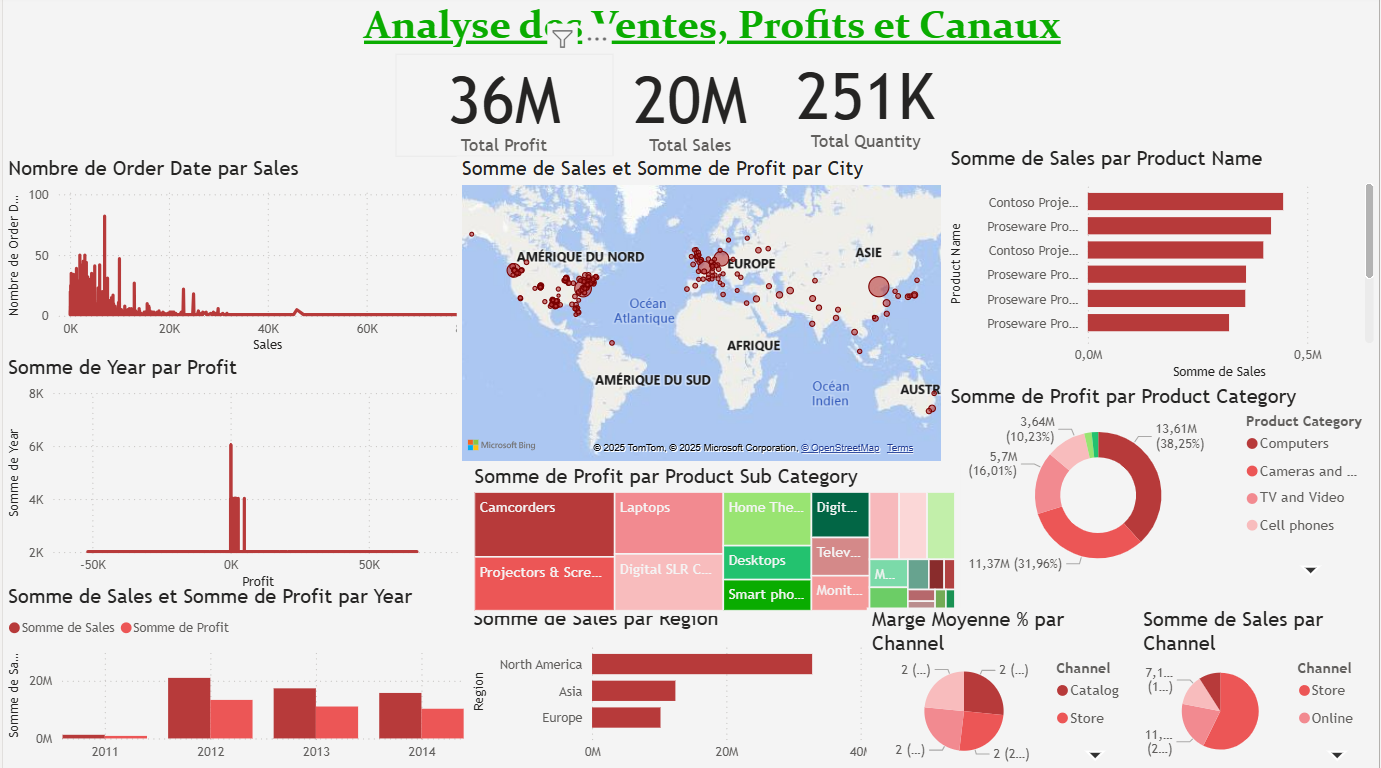

What the dashboard file says about the page in this screenshot:
{"tool":"powerbi","page":{"name":"Analyse des Ventes, Profits et Canaux","canvas":[1280,720],"ordinal":1},"visuals":[{"type":"textbox","box":[264,0,791.9,60.5],"z":0},{"type":"lineChart","fields":{"Y":["CountNonNull(SalesData - Data.Order Date)"],"Category":["SalesData - Data.Sales"]},"box":[0,150,445.4,187.2],"z":1000},{"type":"stackedAreaChart","fields":{"Y":["Sum(SalesData - Data.Year)"],"Category":["SalesData - Data.Profit"]},"box":[0,334.9,432.6,222.1],"z":2000},{"type":"card","fields":{"Values":["SalesData - Data.Total Profit"]},"box":[365.1,54.7,202.3,95.3],"z":3000},{"type":"card","fields":{"Values":["SalesData - Data.Total Sales"]},"box":[552.3,50,174.4,104.7],"z":4000},{"type":"card","fields":{"Values":["SalesData - Data.Total Quantity"]},"box":[726.7,47.7,152.3,102.3],"z":5000},{"type":"clusteredColumnChart","fields":{"Y":["Sum(SalesData - Data.Sales)","Sum(SalesData - Data.Profit)"],"Category":["SalesData - Data.Year"]},"box":[0,547.7,433.7,172.1],"z":6000},{"type":"map","fields":{"Category":["SalesData - Data.City"],"Size":["Sum(SalesData - Data.Sales)"]},"box":[422.1,150,454.7,288.4],"z":7000},{"type":"clusteredBarChart","fields":{"Category":["SalesData - Data.Region"],"Y":["Sum(SalesData - Data.Sales)"]},"box":[432.6,568.6,381.4,151.2],"z":8000},{"type":"clusteredBarChart","fields":{"Category":["SalesData - Data.Product Name"],"Y":["Sum(SalesData - Data.Sales)"]},"box":[876.7,140.7,403.5,220.9],"z":9000},{"type":"donutChart","fields":{"Category":["SalesData - Data.Product Category"],"Y":["Sum(SalesData - Data.Profit)"]},"box":[876.7,361.6,403.5,186],"z":10000},{"type":"treemap","fields":{"Group":["SalesData - Data.Product Sub Category"],"Values":["Sum(SalesData - Data.Profit)"]},"box":[433.7,436,457,141.9],"z":11000},{"type":"pieChart","fields":{"Category":["SalesData - Data.Channel"],"Y":["SalesData - Data.Marge Moyenne %"]},"box":[803.5,569.8,252.3,150],"z":12000},{"type":"pieChart","fields":{"Category":["SalesData - Data.Channel"],"Y":["Sum(SalesData - Data.Sales)"]},"box":[1055.8,569.8,224.4,150],"z":13000}]}

Visuals, with their boxes in screenshot pixels (x1, y1, x2, y2), scaled from the page's 1280x720 canvas onto the 1381x768 screenshot:
textbox: bbox(285, 0, 1139, 65)
lineChart - CountNonNull(SalesData - Data.Order Date) x SalesData - Data.Sales: bbox(0, 160, 481, 360)
stackedAreaChart - Sum(SalesData - Data.Year) x SalesData - Data.Profit: bbox(0, 357, 467, 594)
card - SalesData - Data.Total Profit: bbox(394, 58, 612, 160)
card - SalesData - Data.Total Sales: bbox(596, 53, 784, 165)
card - SalesData - Data.Total Quantity: bbox(784, 51, 948, 160)
clusteredColumnChart - Sum(SalesData - Data.Sales) x Sum(SalesData - Data.Profit): bbox(0, 584, 468, 767)
map - SalesData - Data.City x Sum(SalesData - Data.Sales): bbox(455, 160, 946, 468)
clusteredBarChart - SalesData - Data.Region x Sum(SalesData - Data.Sales): bbox(467, 607, 878, 767)
clusteredBarChart - SalesData - Data.Product Name x Sum(SalesData - Data.Sales): bbox(946, 150, 1380, 386)
donutChart - SalesData - Data.Product Category x Sum(SalesData - Data.Profit): bbox(946, 386, 1380, 584)
treemap - SalesData - Data.Product Sub Category x Sum(SalesData - Data.Profit): bbox(468, 465, 961, 616)
pieChart - SalesData - Data.Channel x SalesData - Data.Marge Moyenne %: bbox(867, 608, 1139, 767)
pieChart - SalesData - Data.Channel x Sum(SalesData - Data.Sales): bbox(1139, 608, 1380, 767)
